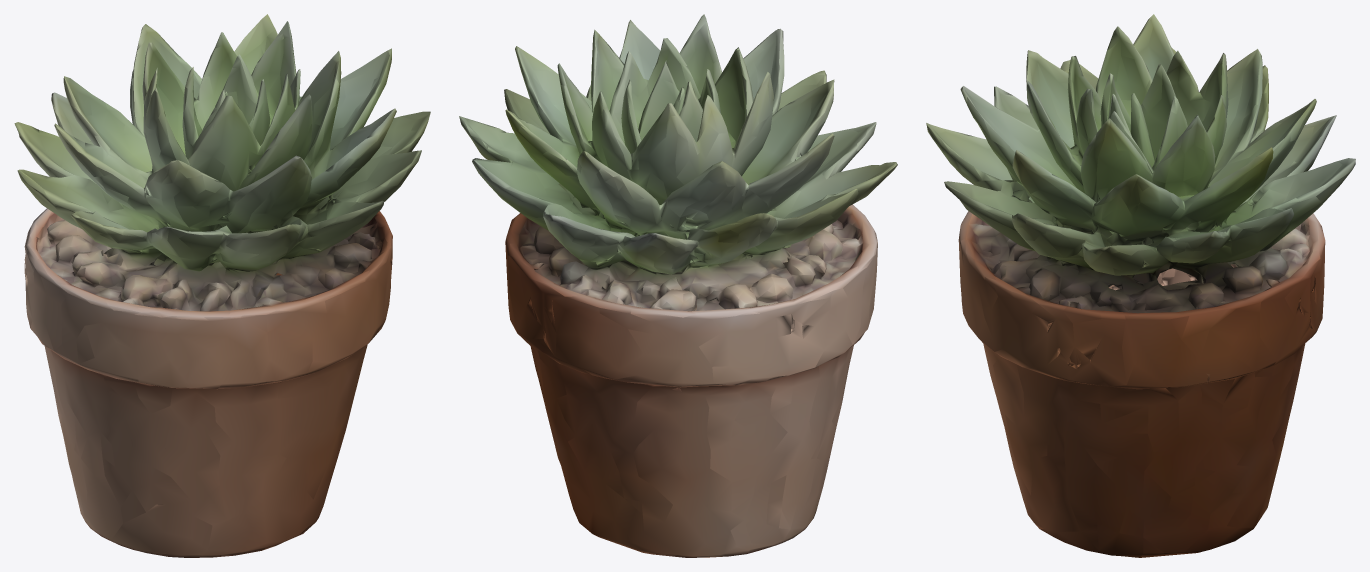
The model's file is 0000_mask_001_potted_succulent_plant.glb.
3 renders of one model, left to right at view 1: azimuth 30°, elevation 25°; view 2: azimuth 150°, elevation 25°; view 3: azimuth 270°, elevation 25°, orthographic.
Parts seen in each view (by area): view 1: mask_001_object; view 2: mask_001_object; view 3: mask_001_object.
Boxes of the visible parts, box(x1,y1,x2,y2) form: mask_001_object: box(14, 14, 430, 557); mask_001_object: box(459, 14, 897, 557); mask_001_object: box(926, 14, 1355, 557).
Size of the model in its own units: 0.1549 by 0.1715 by 0.1483.
